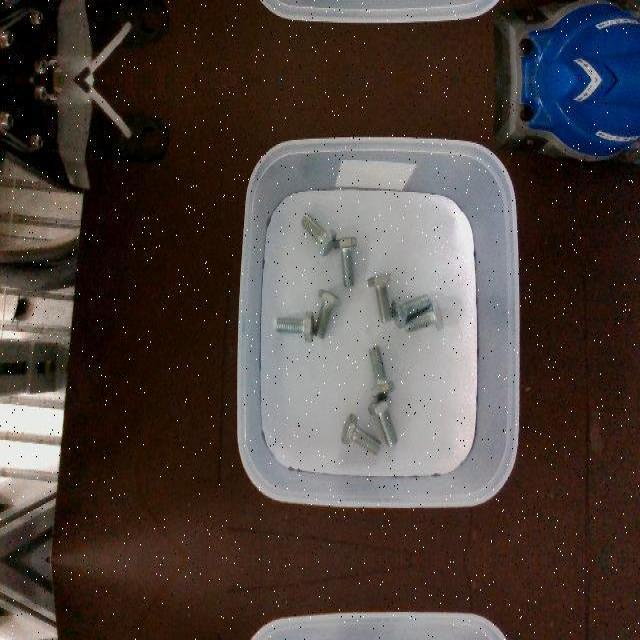screw: (341, 413, 382, 455), (300, 212, 336, 258), (368, 396, 398, 446), (368, 344, 395, 398), (402, 298, 444, 332), (391, 293, 432, 327), (314, 288, 340, 338), (367, 271, 392, 321), (276, 311, 315, 343), (333, 236, 357, 286)
